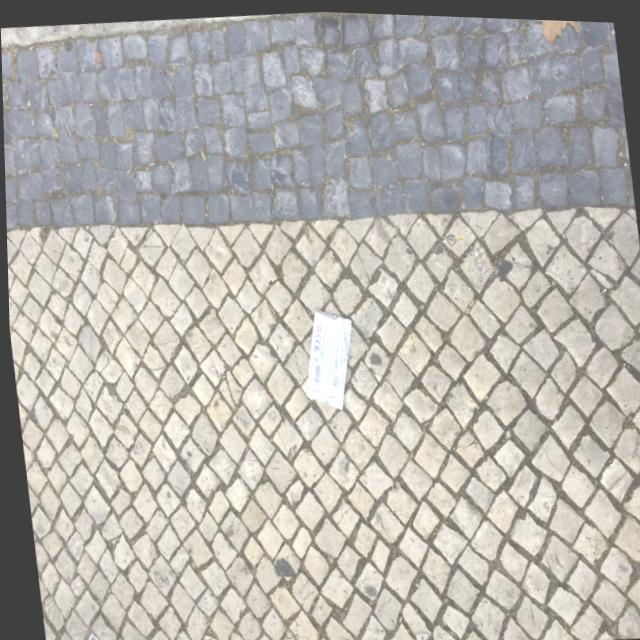Paper: (291, 297, 362, 413), (69, 622, 123, 640)
